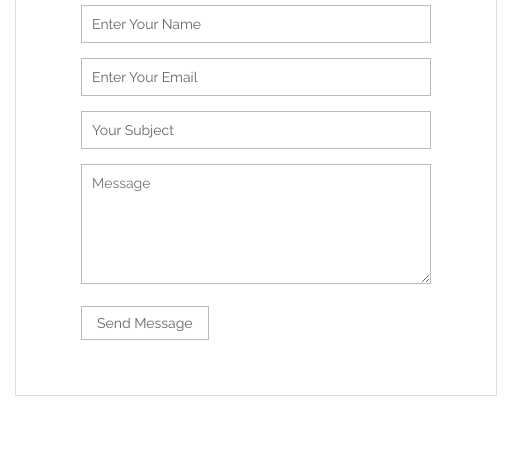
Test case: contact page › renders contact form with invalid message error
Type "Joshua" into the field with placeholder "Enter Your Name". click: [256, 24]
box: [81,5,431,43]
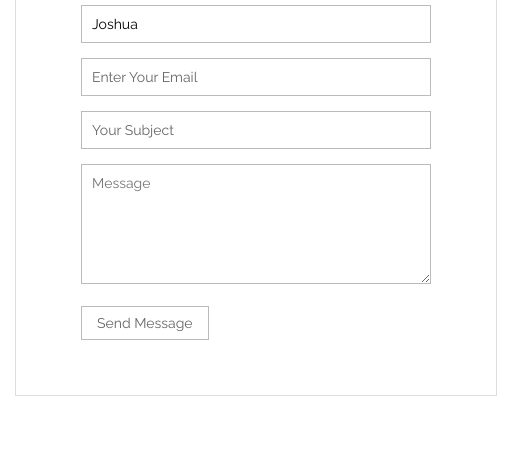
Type "jo@jo" into the field with placeholder "Enter Your Email". click: [256, 77]
box: [81,58,431,96]
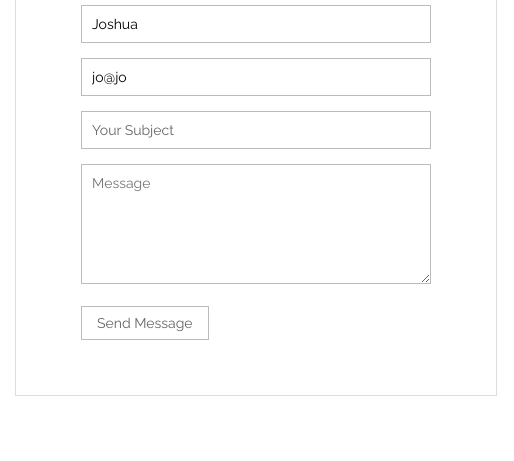
Type "Hello World" into the field with placeholder "Your Subject". click: [256, 130]
box: [81,111,431,149]
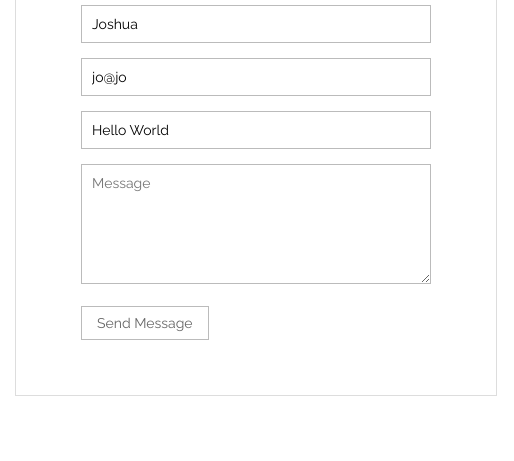
Type "No message" into the text box with placeholder "Message". click: [256, 224]
box: [81,164,431,284]
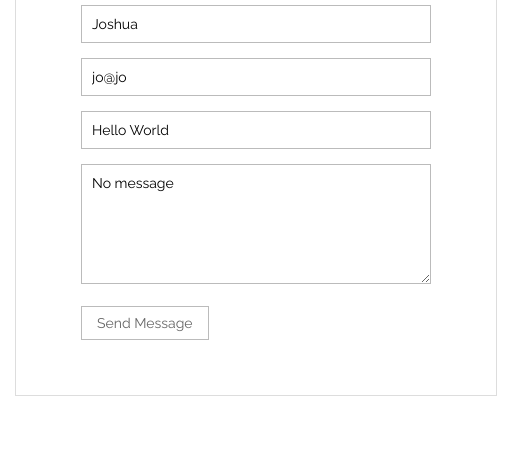
Click the button "Send Message". click: [145, 323]
box: [81,306,209,340]
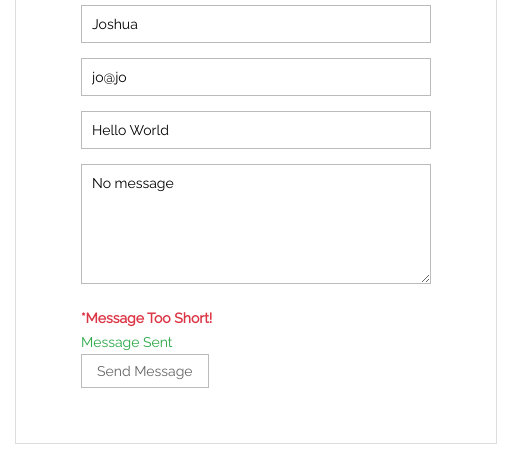
Result: the text with test id "error" reads "*Message Too Short!" at [81,310,212,326]
